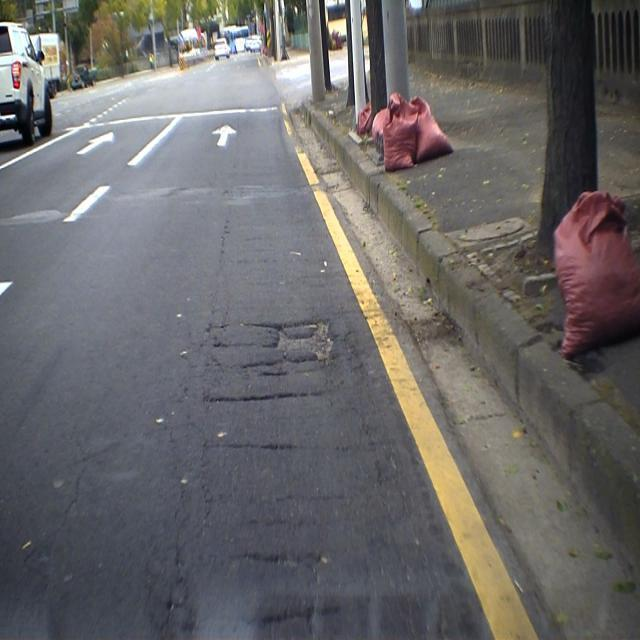Buraco: (239, 316, 344, 373)
